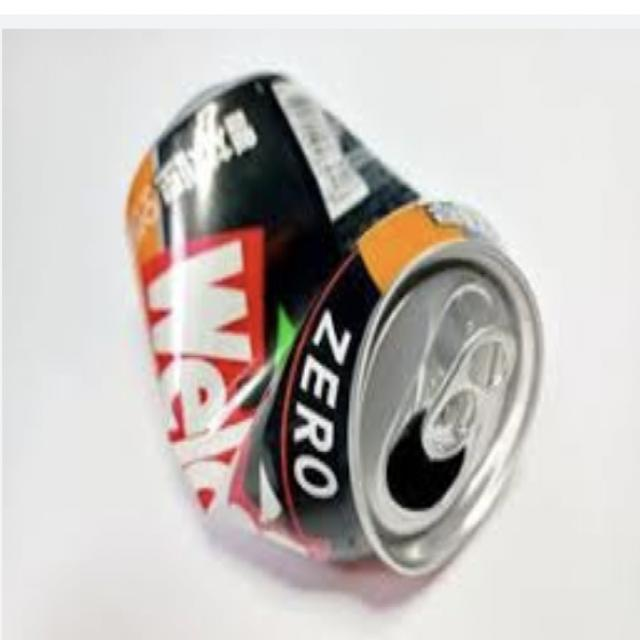recyclable: (120, 45, 574, 615)
